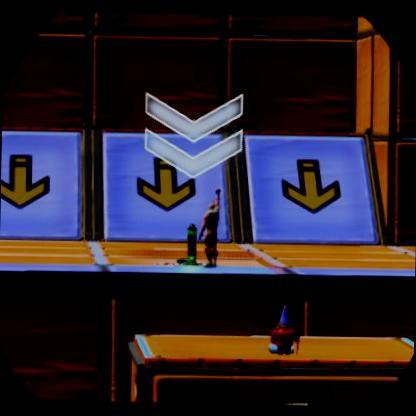person: (204, 204, 226, 264)
